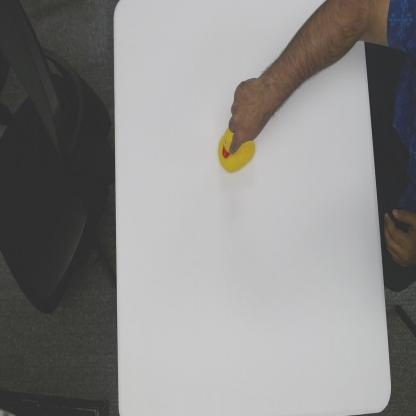Arm: (256, 2, 366, 107)
Duck: (216, 126, 257, 174)
Hand: (228, 78, 273, 156)
